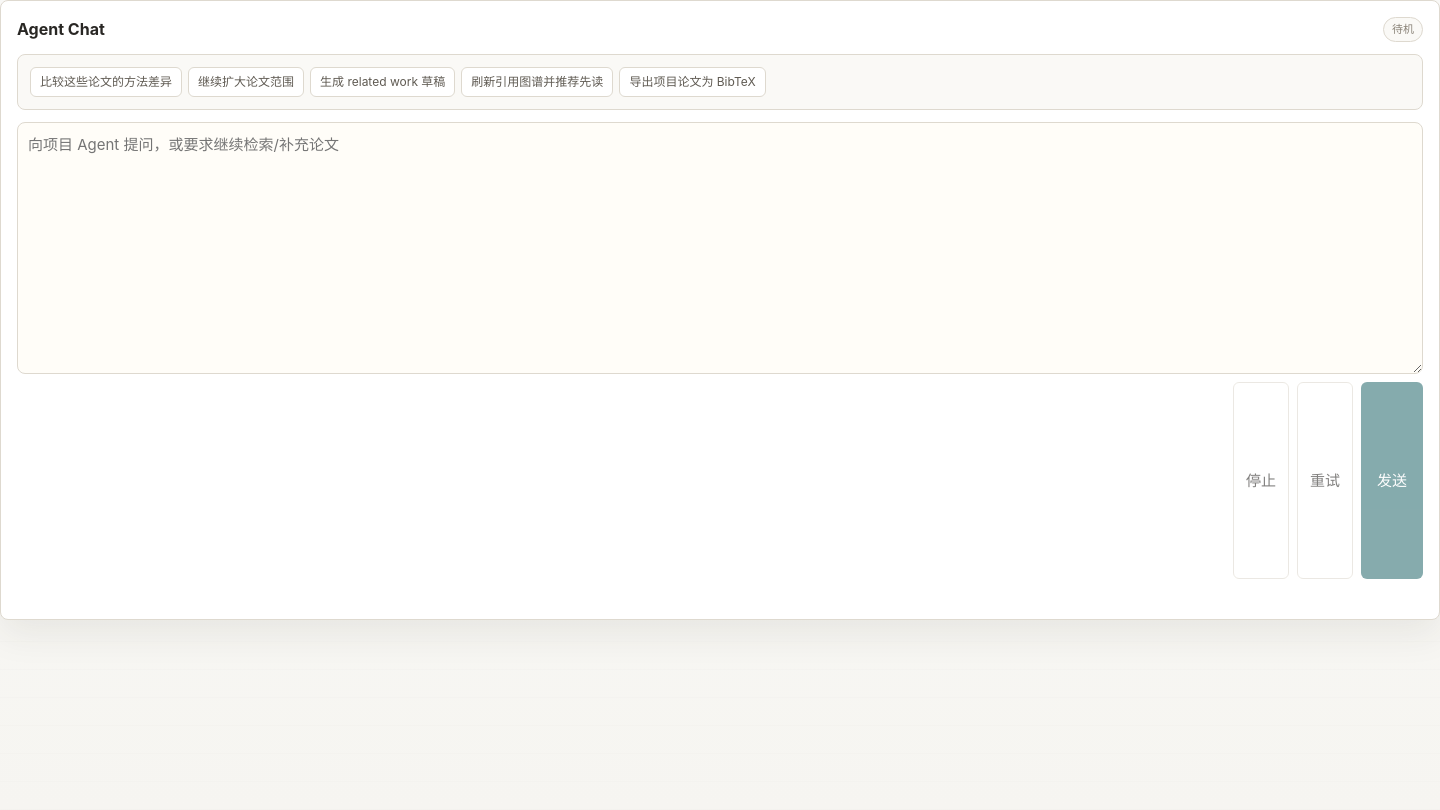
Test: AgentChatPanel › sends a message, pushes user + assistant items, and enters busy state
Type "比较这些论文的方法差异" into the text box with id "agent-message". click: coordinates (720, 248)
box: 17,122 -> 1423,374
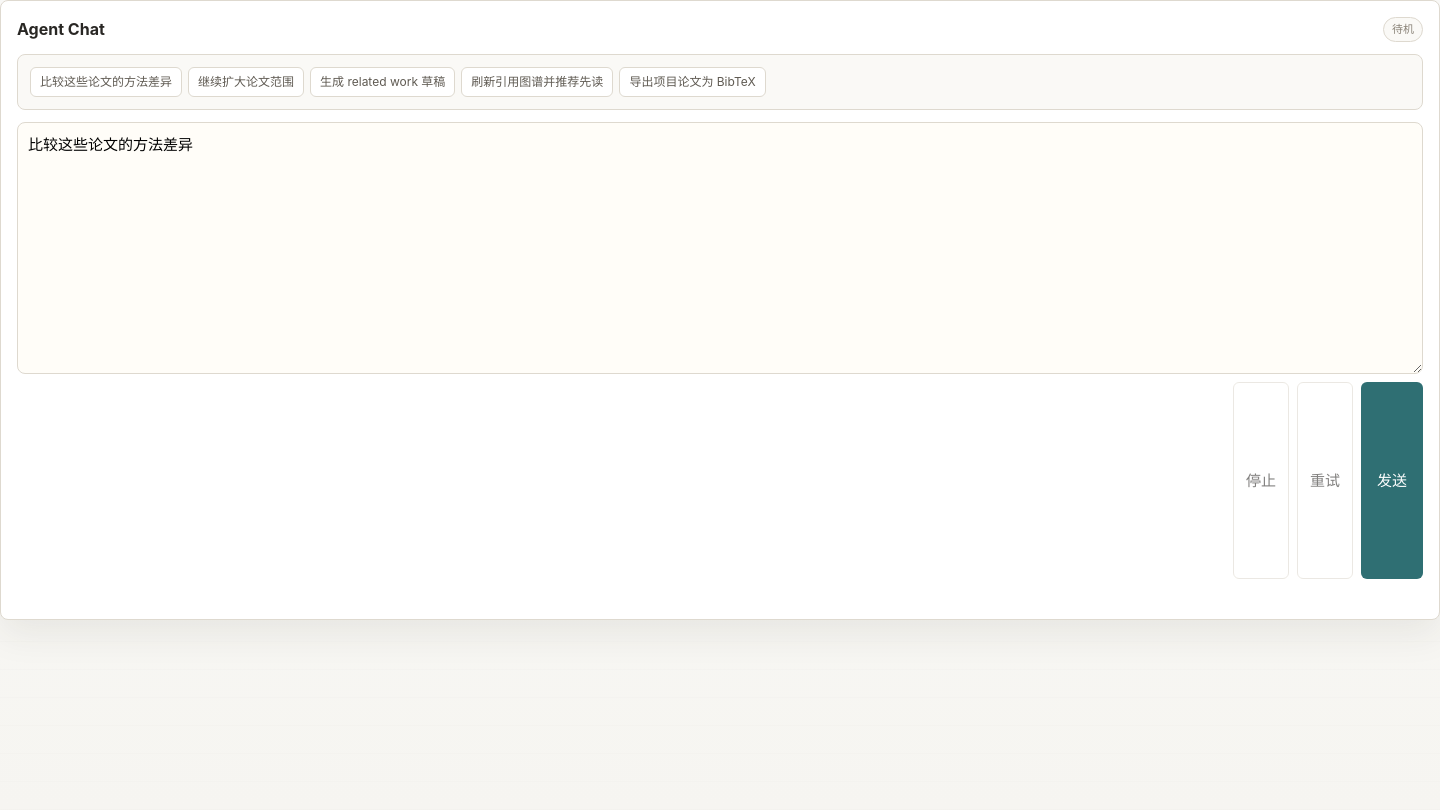
Click the button "发送". click: coordinates (1392, 481)
box: 1361,382 -> 1423,579
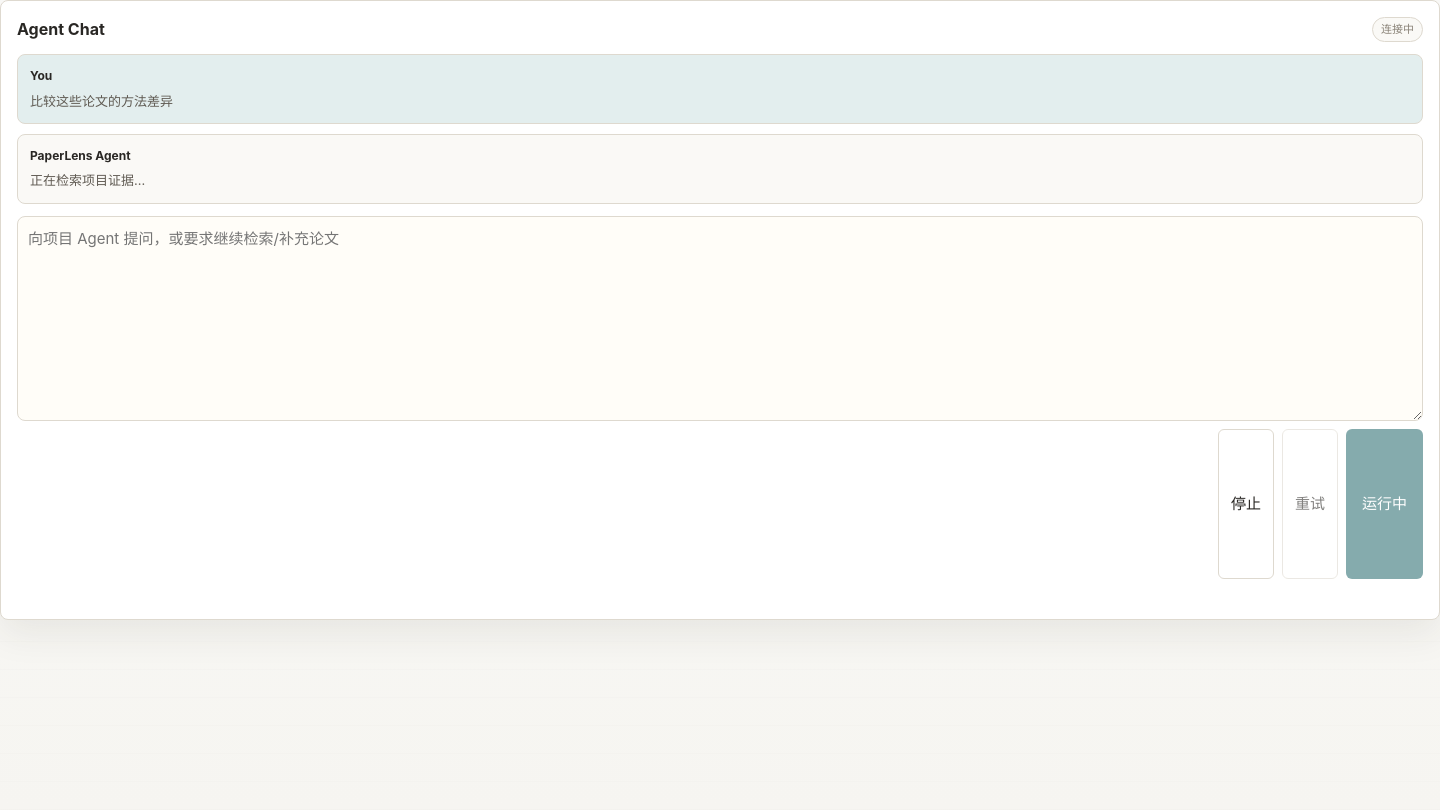
Now the number of elements with class "message" is 2, box 17,54 -> 1423,124; 17,134 -> 1423,204
Now the element with class "user" shows "比较这些论文的方法差异", box 30,93 -> 173,109
